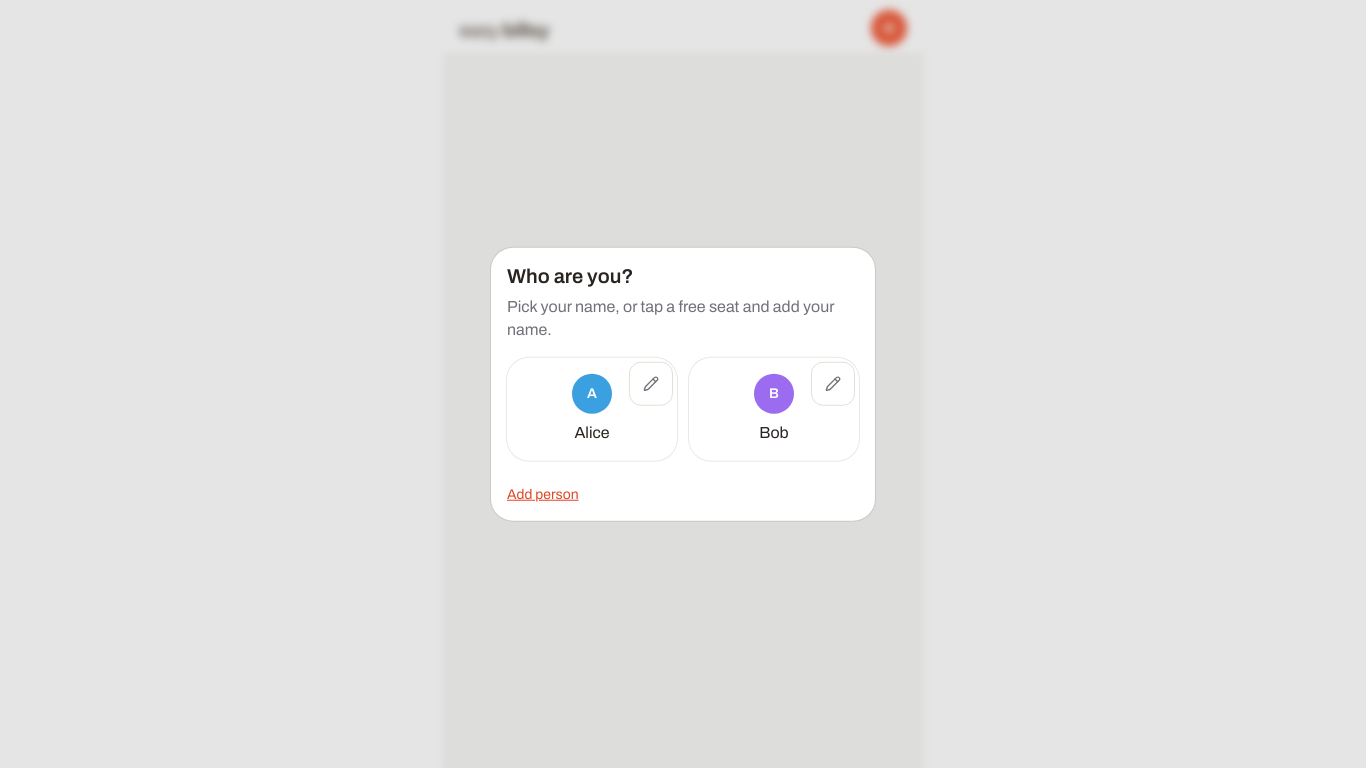
it: CollaborativeClaimingView › Test 2: No host badge in header (flat model — no host concept)
Click the button with aria-label "claim slot alice" at x=592, y=409, box [507, 357, 677, 460]
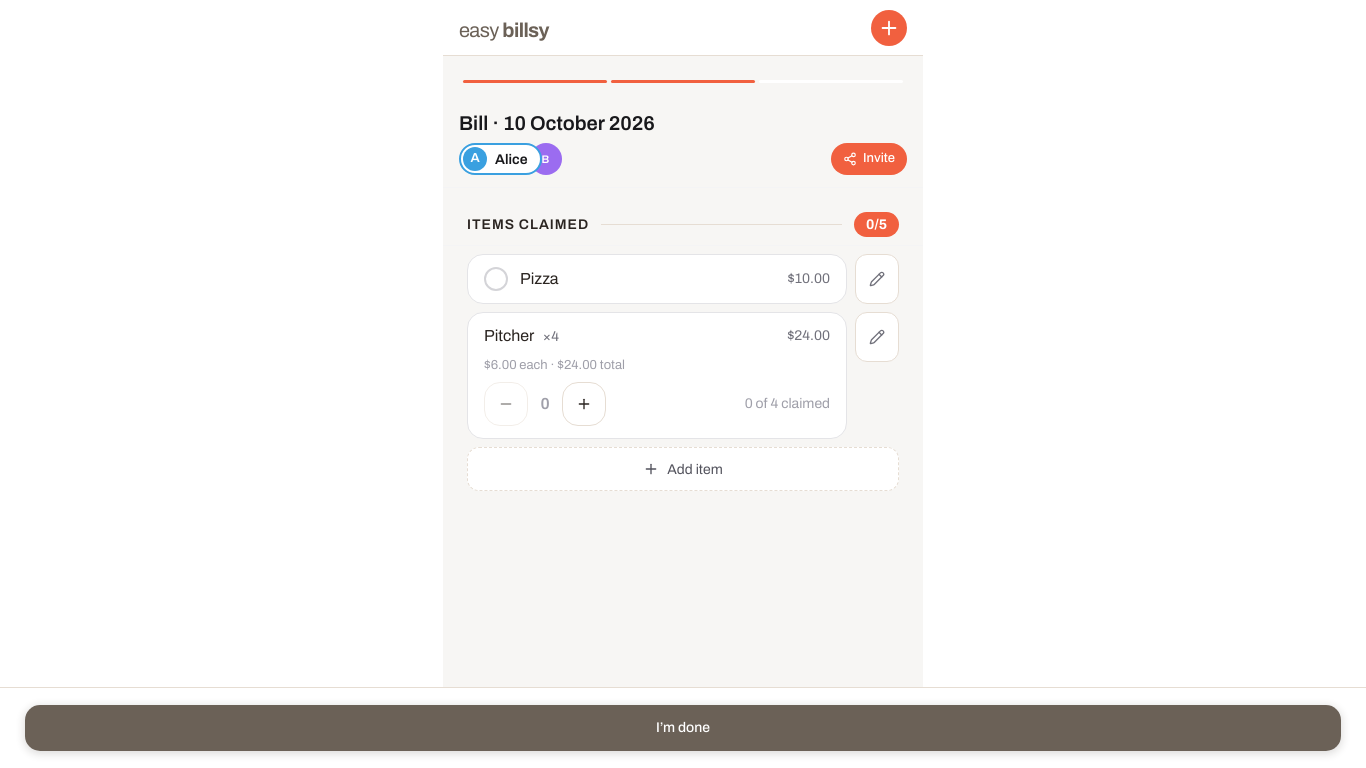
Check: the button "I’m done" is shown, box [24, 704, 1342, 752]
